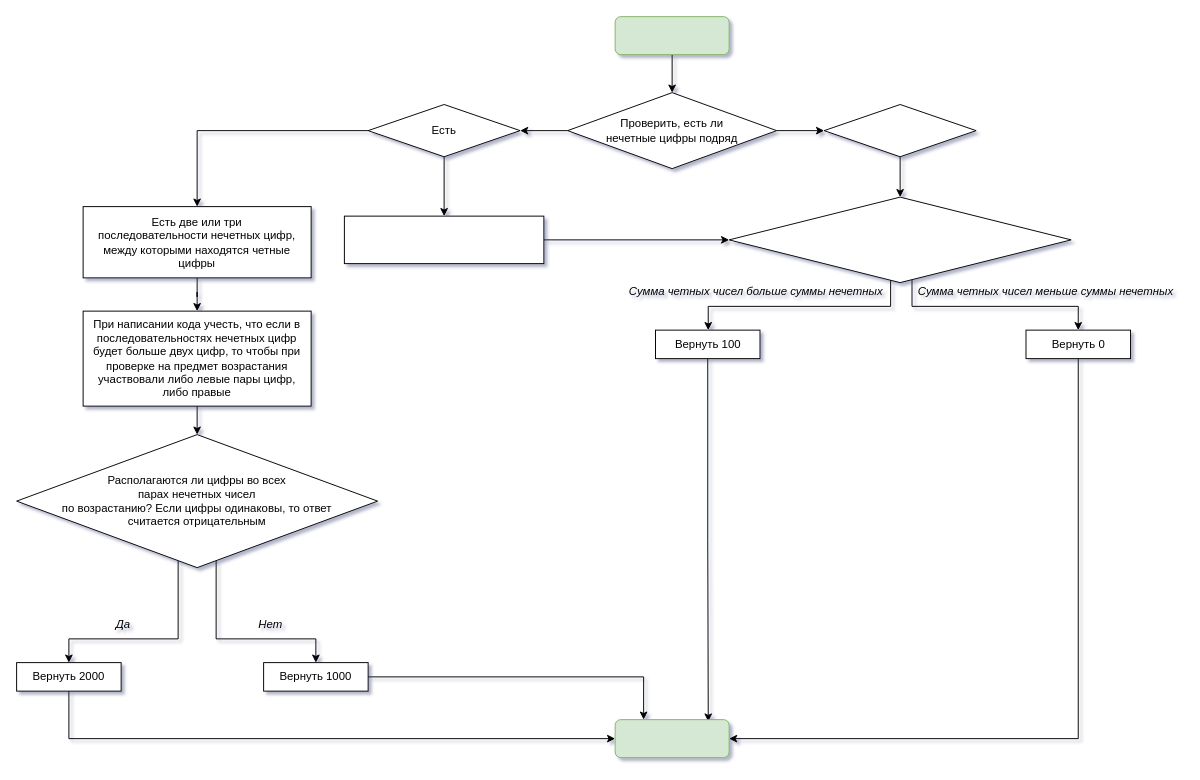
Some shapes in this 1200 by 780 pixel diagram are drawn without their labels. Each missing label, with the centre of its shape:
"Есть только одна последовательность нечетных цифр" belongs at (x=443, y=239).
"Конец работы функции" belongs at (x=671, y=738).
"Начало работы функции" belongs at (x=671, y=35).
"Нету" belongs at (x=899, y=130).
"Сложить все нечетные числа и все четные числа и сравнить, какая сумма больше" belongs at (x=899, y=239).
